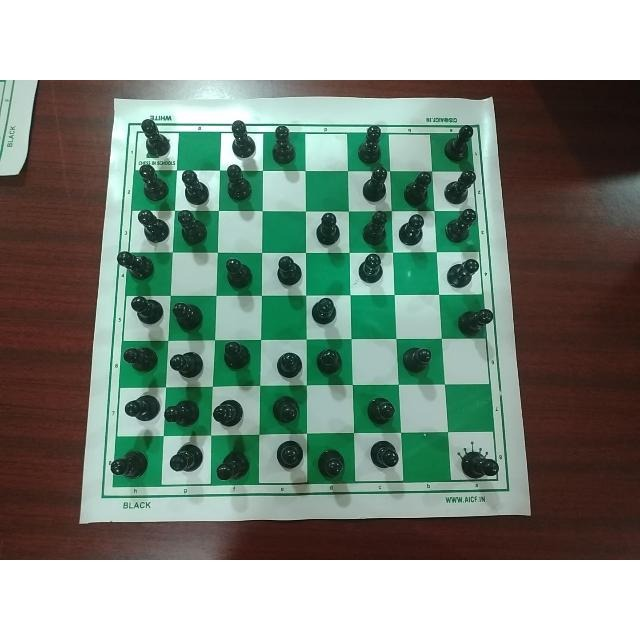black-pawn: (428, 122, 483, 162), (458, 443, 503, 482), (218, 117, 259, 159), (350, 123, 390, 165), (215, 162, 255, 204), (130, 160, 170, 201), (133, 116, 173, 156), (132, 204, 172, 243), (353, 165, 391, 204), (401, 340, 439, 379), (361, 391, 400, 429), (269, 119, 299, 167), (174, 204, 210, 244), (356, 207, 392, 247), (122, 390, 162, 426), (177, 162, 212, 203), (310, 208, 344, 250), (115, 245, 157, 279), (455, 305, 497, 338), (398, 169, 434, 207), (268, 393, 304, 431), (367, 437, 401, 477), (125, 294, 167, 326), (107, 452, 149, 484), (444, 168, 480, 205), (220, 251, 256, 288), (440, 256, 481, 288), (170, 294, 205, 331), (217, 451, 255, 485), (445, 206, 481, 241), (168, 345, 205, 379), (316, 444, 348, 483), (270, 250, 304, 286), (307, 296, 343, 330), (209, 399, 247, 431), (219, 338, 254, 372), (397, 209, 428, 245), (164, 396, 200, 427), (121, 342, 160, 370), (354, 250, 386, 284), (273, 437, 305, 471), (168, 442, 203, 473), (317, 344, 345, 376), (274, 351, 304, 379)
